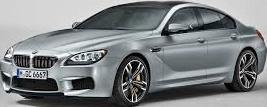Cars: (2, 3, 267, 107)
